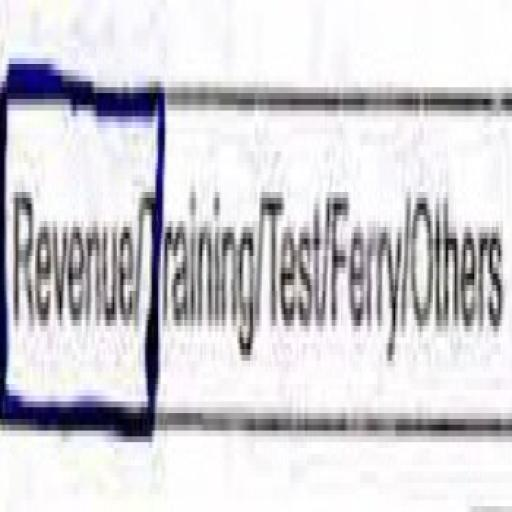check: (0, 12, 146, 452)
